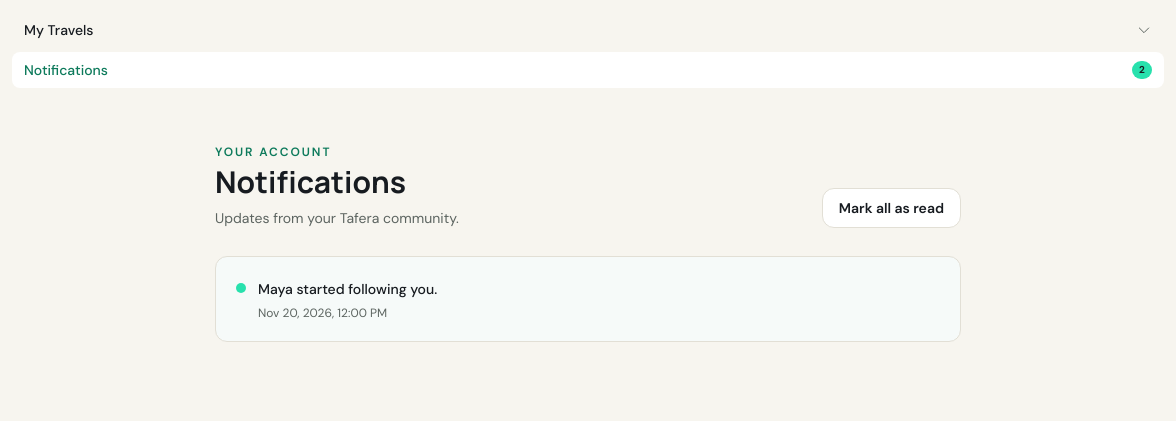
Test: Notifications page › does not decrement the sidebar unread count when mark-as-read fails
Check: the text named "2 unread notifications" is shown, box [1132,61,1152,79]
Click the link "Maya started following you." at (348, 289), box [258,280,437,298]
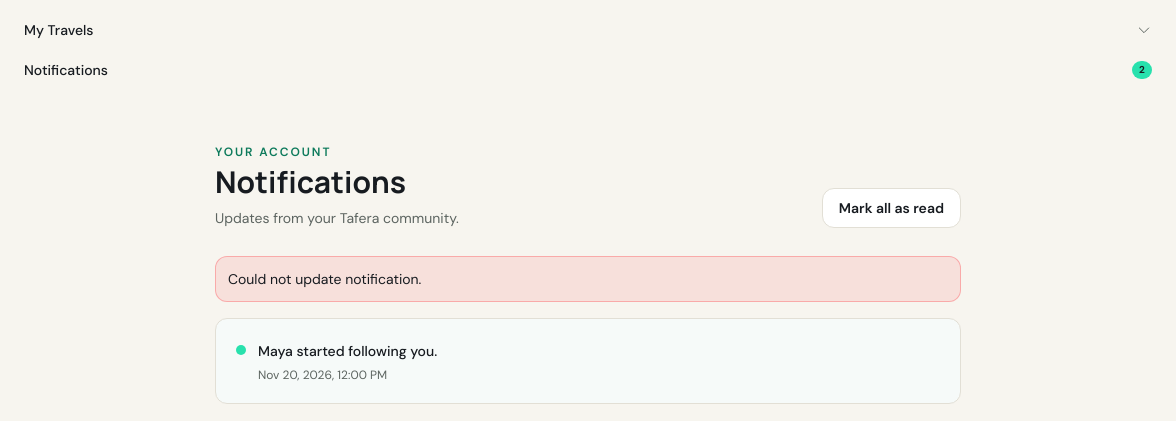
Check: the text named "2 unread notifications" is shown, box [1132,61,1152,79]
Check: the message reads "Could not update notification.", box [228,270,421,288]
